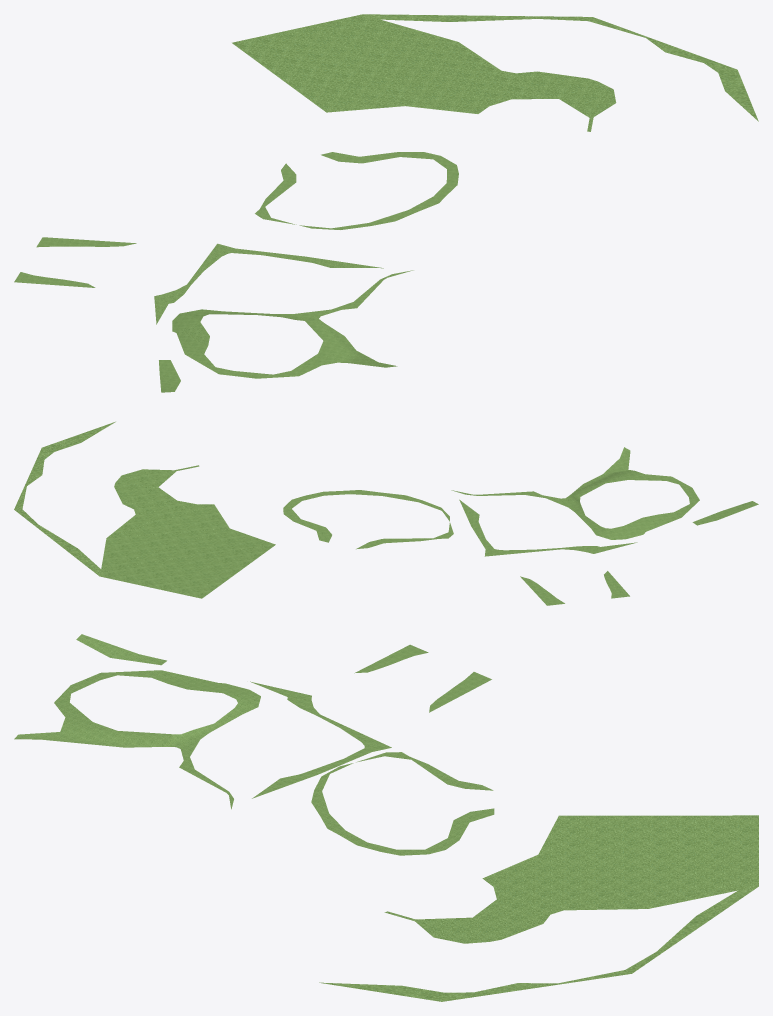
The model's file is kd_stage_135ebf_0_4.glb.
The picture shows the model from 3 angles, top to bottom: view 1: azimuth 30°, elevation 25°; view 2: azimuth 150°, elevation 25°; view 3: azimuth 270°, elevation 25°; orthographic projection. The views are drawn at different scales.
Visible parts, largest first — view 1: kd_stage_135ebf_0_4; view 2: kd_stage_135ebf_0_4; view 3: kd_stage_135ebf_0_4.
Part boxes in pixels (x1,y1,x2,y2): kd_stage_135ebf_0_4: (14,14,758,392); kd_stage_135ebf_0_4: (14,421,758,605); kd_stage_135ebf_0_4: (14,634,758,1001).
Bounding box in the file's own units: 20.2 × 0.7097 × 16.55.
Materials: 1 (1 with a texture image).
